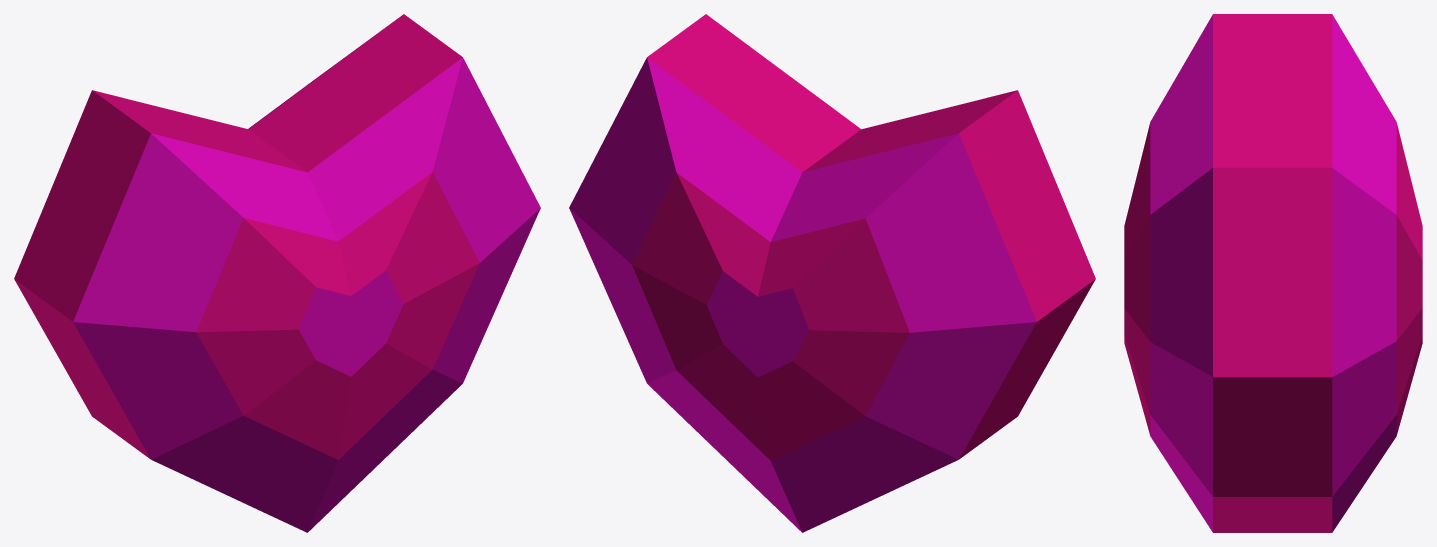
File: heart.fbx
3 views of the same model, side by side, from view 1: azimuth 30°, elevation 25°; view 2: azimuth 150°, elevation 25°; view 3: azimuth 270°, elevation 25° (orthographic).
Visible parts, largest first — view 1: Cube; view 2: Cube; view 3: Cube.
Boxes of the visible parts, x1,y1,x2,y2 form: Cube: (14,14,540,532); Cube: (569,14,1095,532); Cube: (1124,14,1422,532).
Size of the model in its own units: 300 by 268 by 164.
